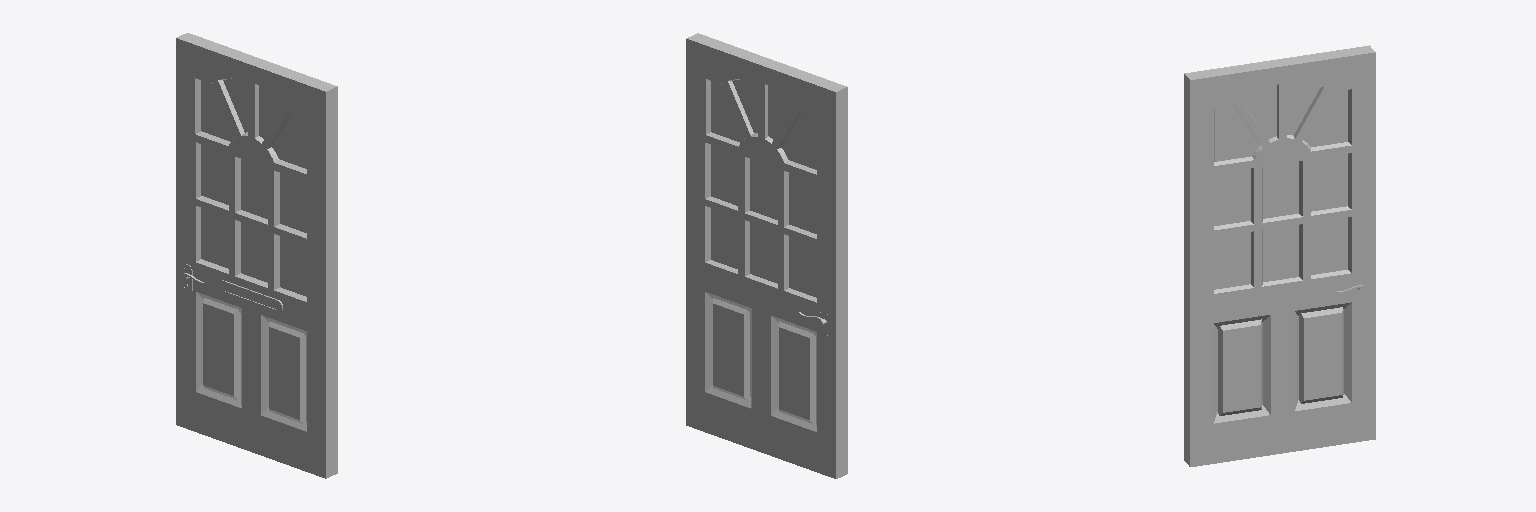
Rendered from door_000007.obj.
3 views of the same model, side by side, from view 1: azimuth 30°, elevation 25°; view 2: azimuth 210°, elevation 25°; view 3: azimuth 270°, elevation 25° (orthographic).
Parts seen in each view (by area): view 1: Door.003; view 2: Door.003; view 3: Door.003.
Part boxes in pixels (x1,y1,x2,y2): Door.003: (176, 33, 337, 478); Door.003: (686, 33, 847, 478); Door.003: (1184, 45, 1375, 466).
Bounding box in the file's own units: 0.3181 × 1.6 × 0.7183.